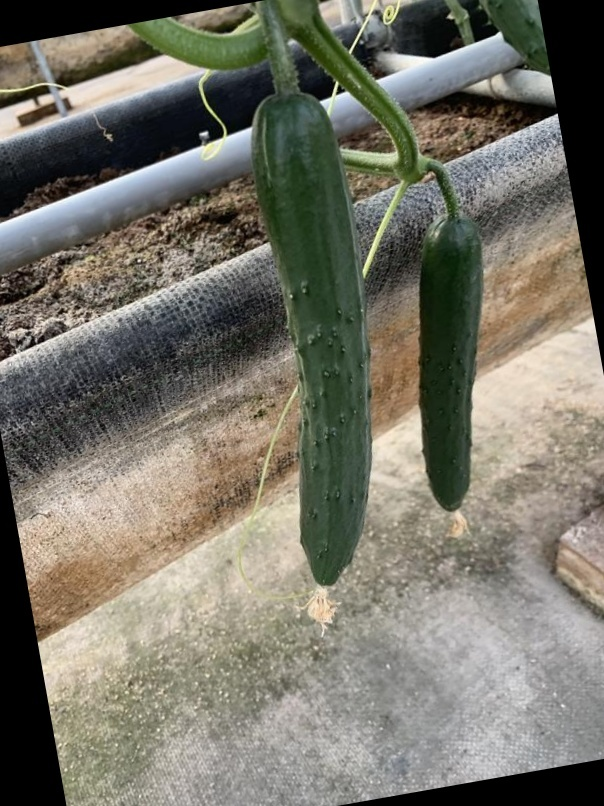mature: (246, 76, 379, 609), (416, 206, 489, 518)
